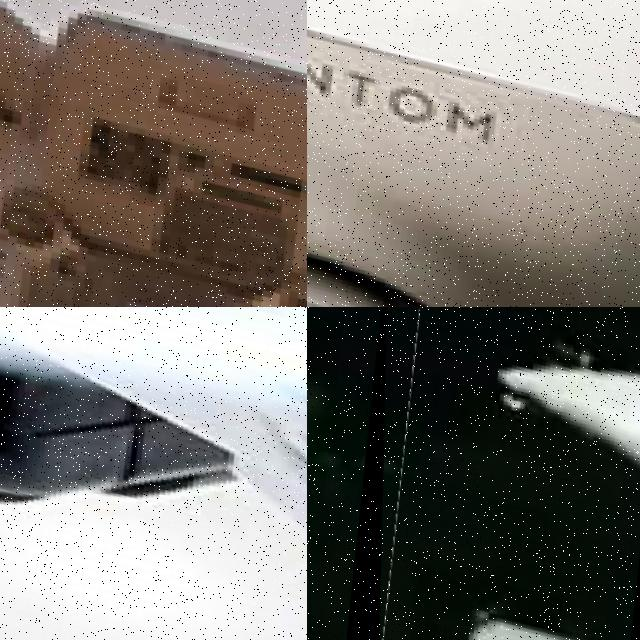drone: (325, 307, 640, 640), (307, 0, 640, 307), (0, 307, 307, 640), (0, 0, 307, 307)
